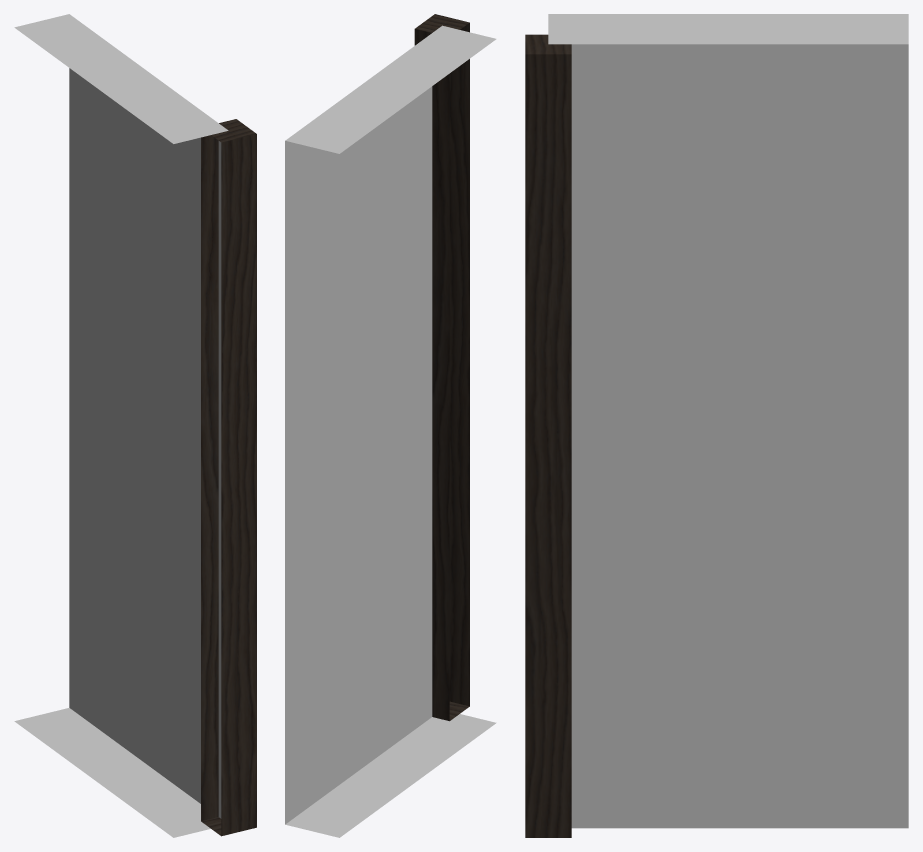
Rendered from FerryModularWallNoWindow.fbx.
3 views of the same model, side by side, from view 1: azimuth 30°, elevation 25°; view 2: azimuth 150°, elevation 25°; view 3: azimuth 270°, elevation 25° (orthographic). The views are drawn at different scales.
Visible parts, largest first — view 1: Ferry Wall 002; view 2: Ferry Wall 002; view 3: Ferry Wall 002.
Boxes of the visible parts, box(x1,y1,x2,y2) form: Ferry Wall 002: box(14, 14, 256, 837); Ferry Wall 002: box(285, 14, 496, 837); Ferry Wall 002: box(525, 14, 908, 837).
Size of the model in its own units: 132 by 1200 by 532.
